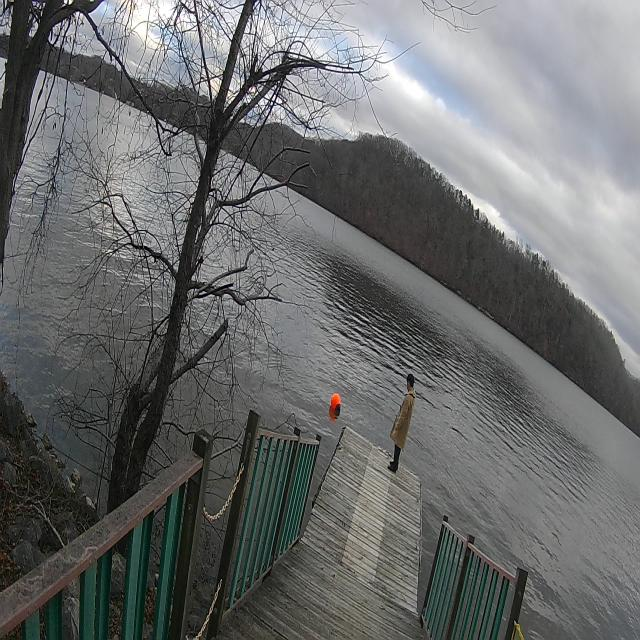Buoy: (330, 391, 343, 416)
